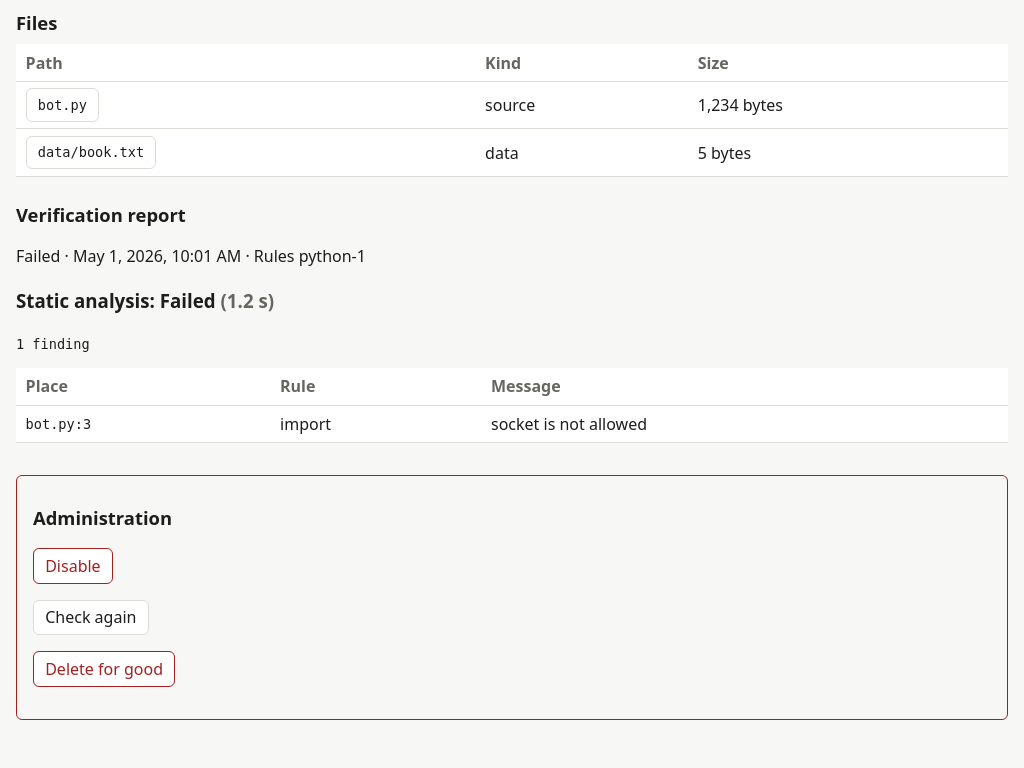
Test case: bot page › explains why a bot cannot be deleted
This screenshot has width=1024, height=768.
(page scrolled)
Step 1. Click the button "Delete for good" → click(104, 669), box [33, 651, 175, 687]
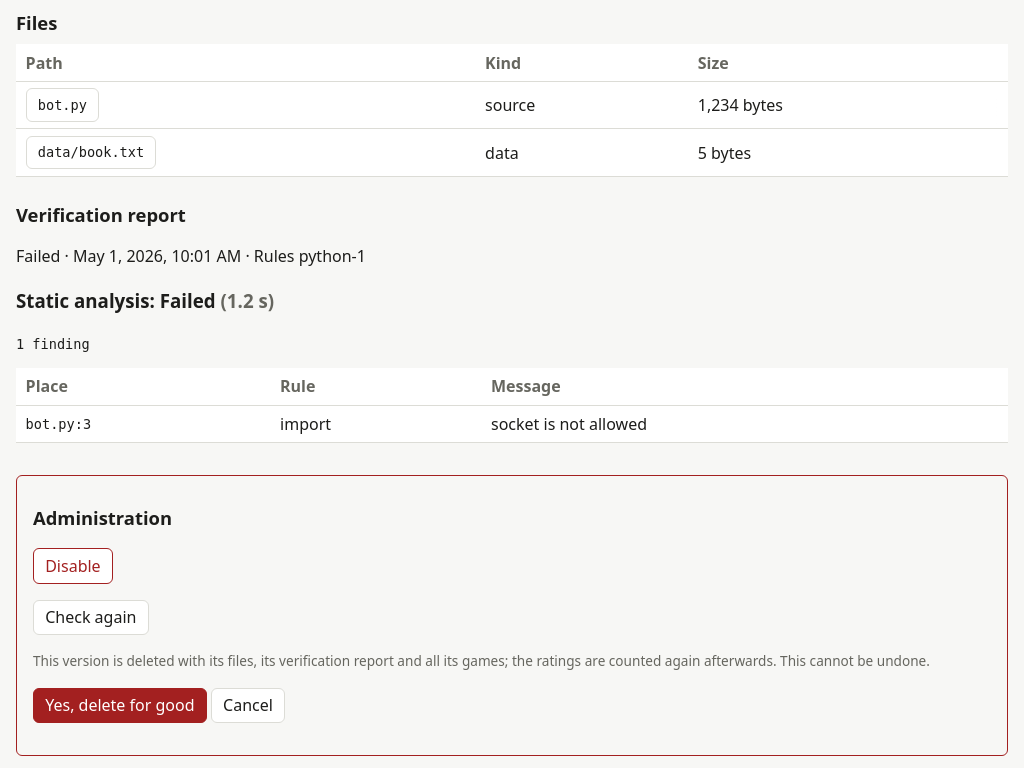
Step 2. Click the button "Yes, delete for good" → click(120, 705), box [33, 688, 207, 723]
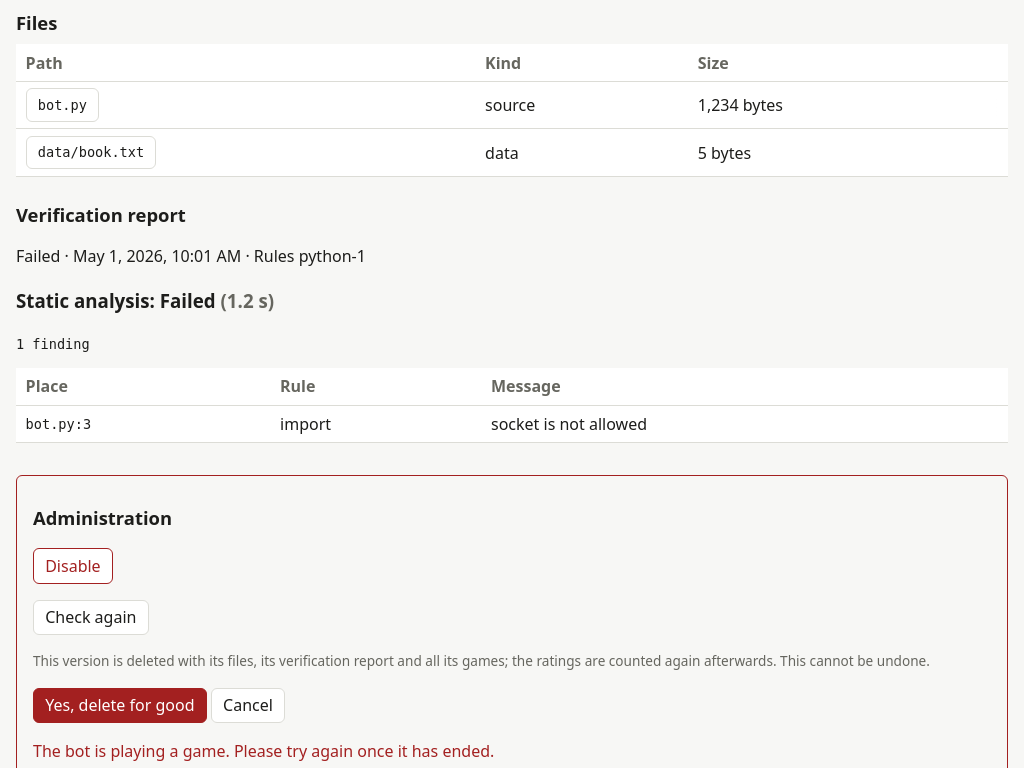
Now the message reads "The bot is playing a game. Please try again once it has ended.", box [33, 740, 494, 762]
